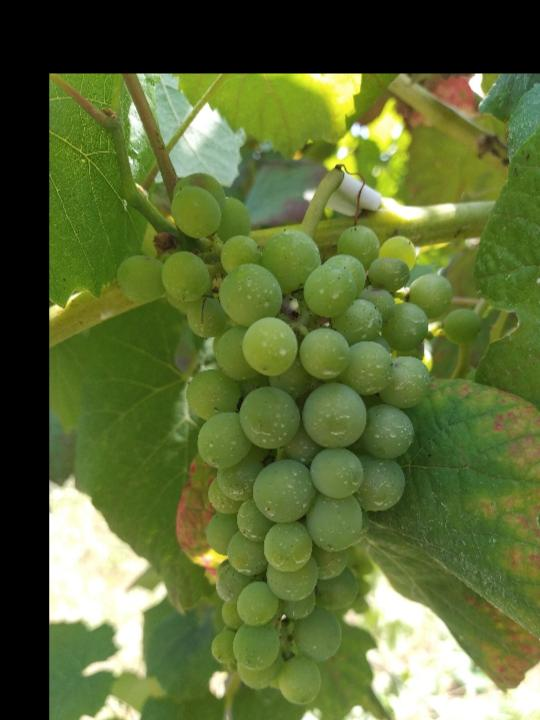grape: (107, 169, 479, 711)
